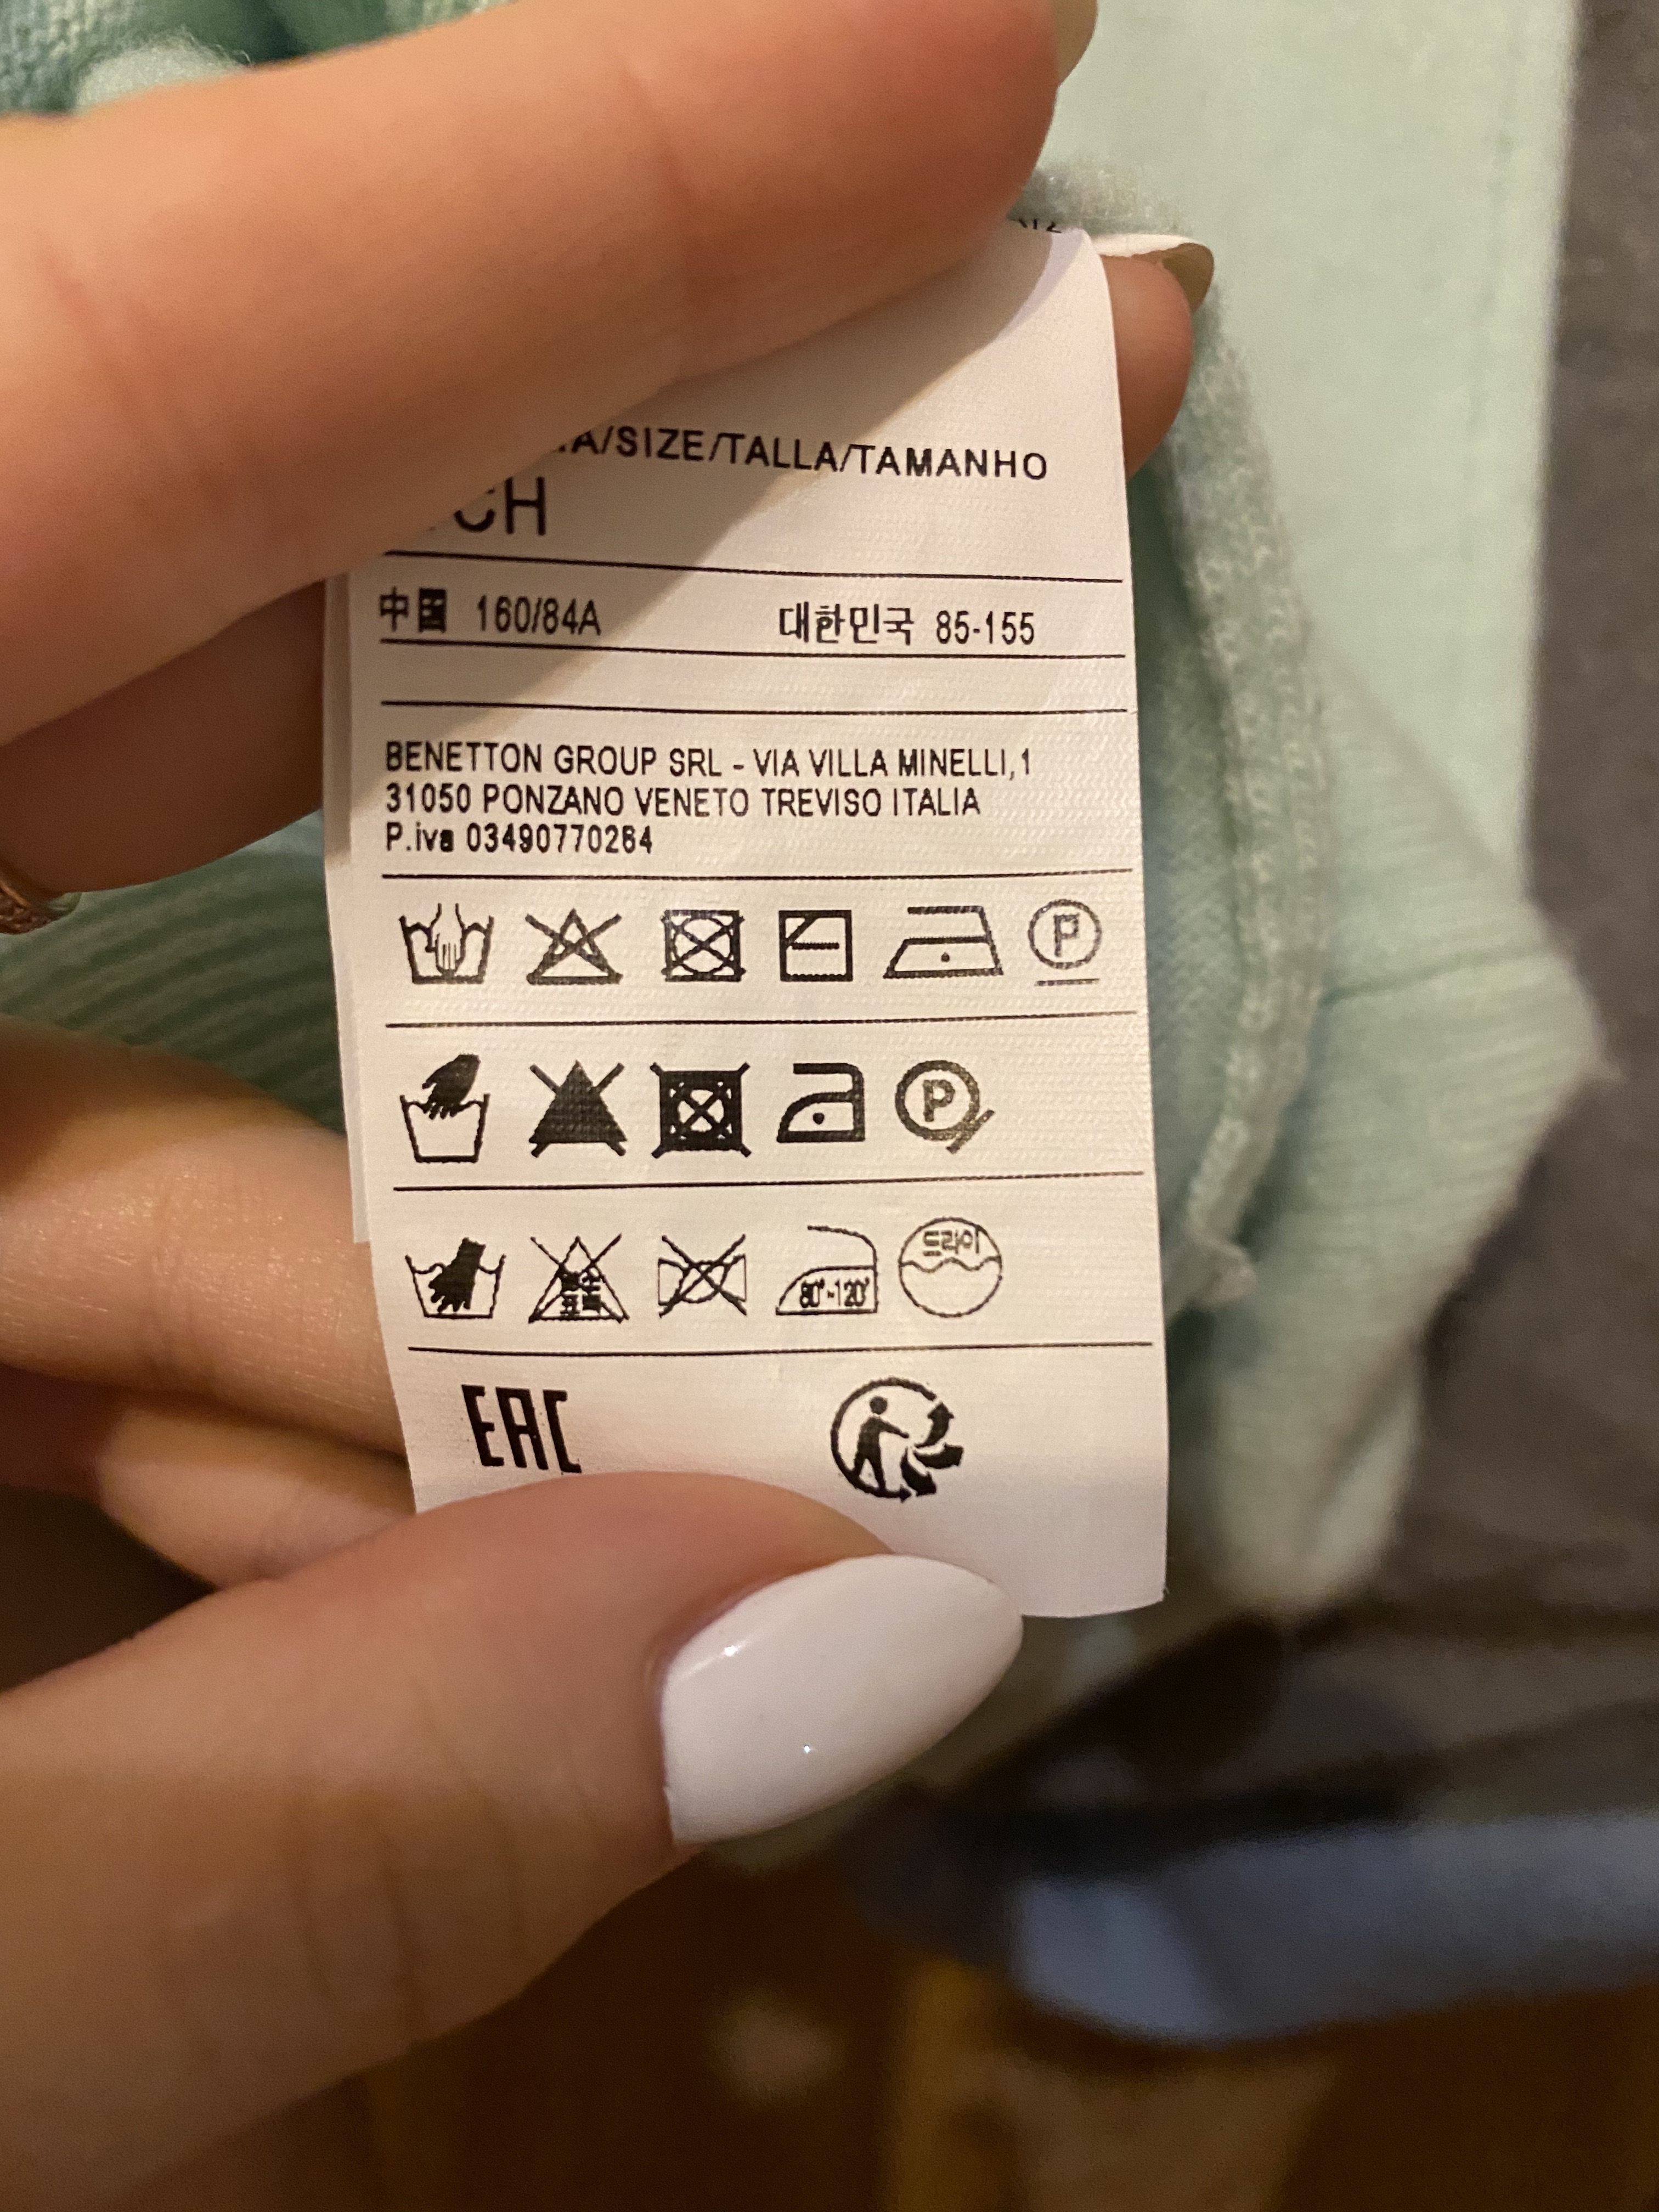do_not_bleach: (519, 1052, 636, 1163), (519, 902, 627, 991)
do_not_tumble_drying: (645, 1054, 758, 1169), (655, 902, 748, 991)
dry_flat_in_the_shade: (774, 902, 866, 991)
gentle_cleaning_with_pce: (894, 1052, 1000, 1157), (1021, 895, 1114, 995)
hand_wash: (399, 1045, 498, 1170), (404, 1224, 514, 1327), (394, 897, 504, 995)
ironing_at_low_temp: (878, 899, 1006, 989), (772, 1054, 875, 1153)
